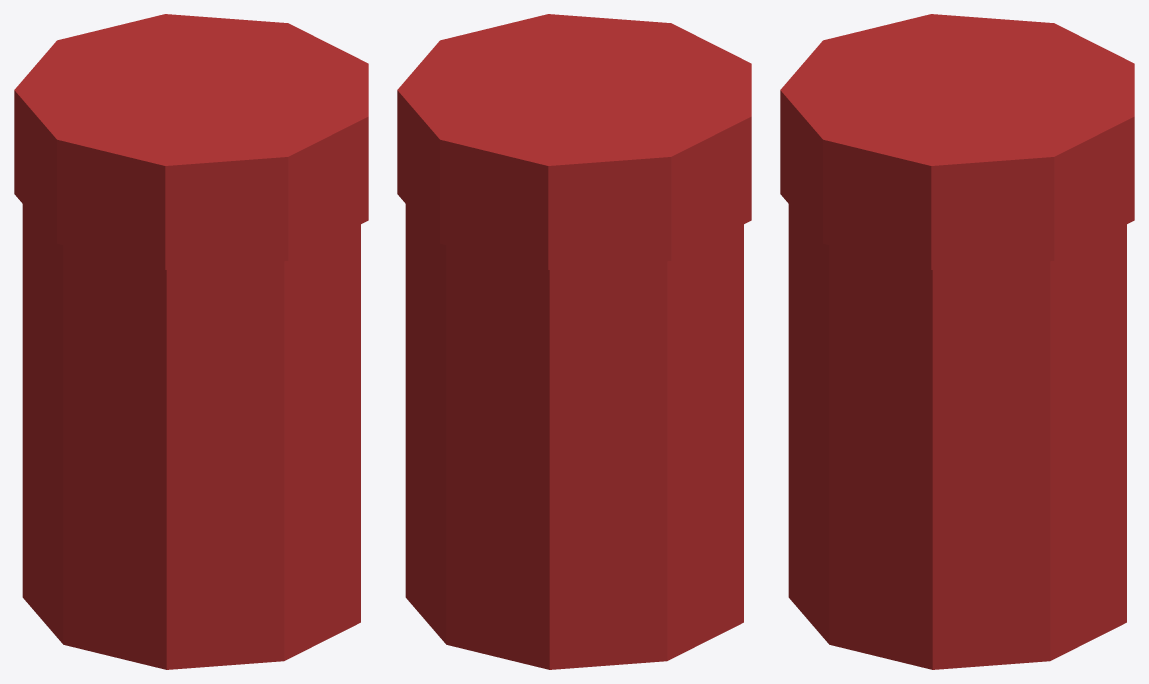
3 renders of one model, left to right at view 1: azimuth 30°, elevation 25°; view 2: azimuth 150°, elevation 25°; view 3: azimuth 270°, elevation 25°, orthographic.
Parts seen in each view (by area): view 1: Box_14; view 2: Box_14; view 3: Box_14.
Part boxes in pixels (x1=…): Box_14: x1=14, y1=14, x2=368, y2=669; Box_14: x1=397, y1=14, x2=751, y2=669; Box_14: x1=780, y1=14, x2=1134, y2=669.
Size of the model in its own units: 11.22 by 11.05 by 17.45.
